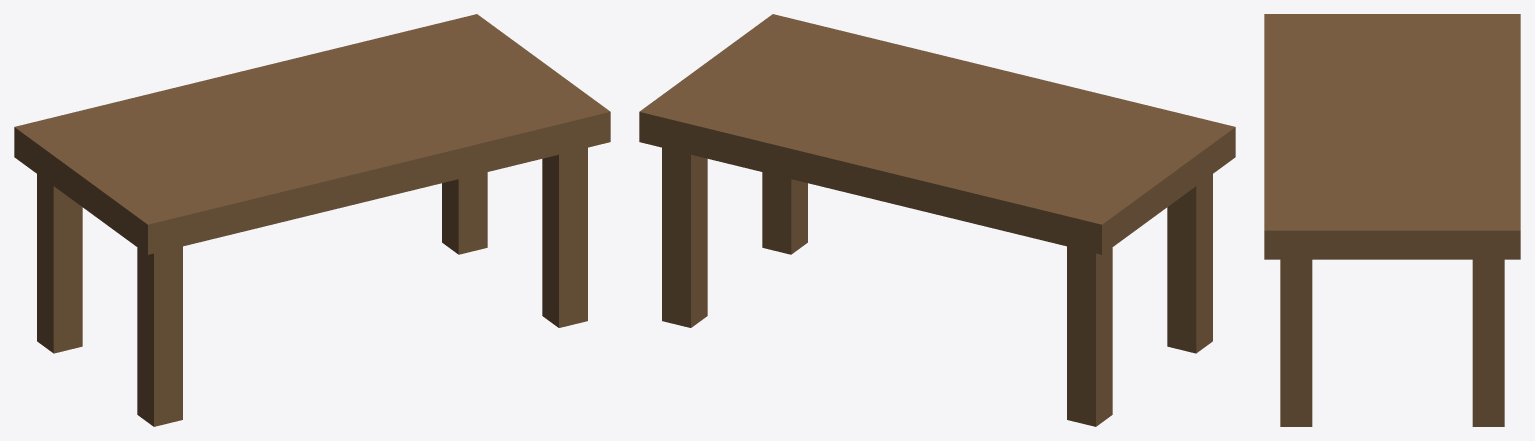
File: desk.fbx
3 views of the same model, side by side, from view 1: azimuth 30°, elevation 25°; view 2: azimuth 150°, elevation 25°; view 3: azimuth 270°, elevation 25° (orthographic). The views are drawn at different scales.
Visible parts, largest first — view 1: desktop, leg_2, leg_3, leg_1, leg_4; view 2: desktop, leg_1, leg_4, leg_2, leg_3; view 3: desktop, leg_3, leg_4.
Part boxes in pixels (x1,y1,x2,y2): desktop: (14,14,610,254); leg_2: (137,246,182,426); leg_3: (542,147,587,327); leg_1: (37,174,82,353); leg_4: (442,172,487,254); desktop: (639,14,1235,254); leg_1: (1067,246,1112,426); leg_4: (662,147,707,327); leg_2: (1167,174,1212,353); leg_3: (762,172,807,254); desktop: (1264,14,1520,259); leg_3: (1280,259,1312,426); leg_4: (1472,259,1504,426).
Bounding box in the file's own units: 200 × 87.5 × 100.
